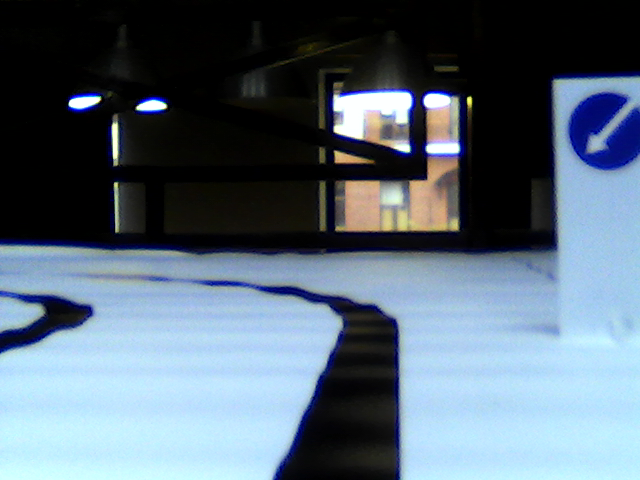prep: (567, 88, 639, 171)
